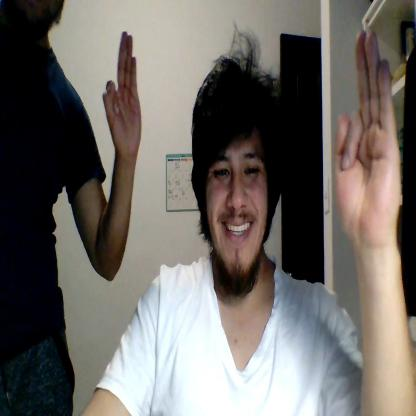F: (334, 27, 401, 247), (103, 32, 142, 155)
